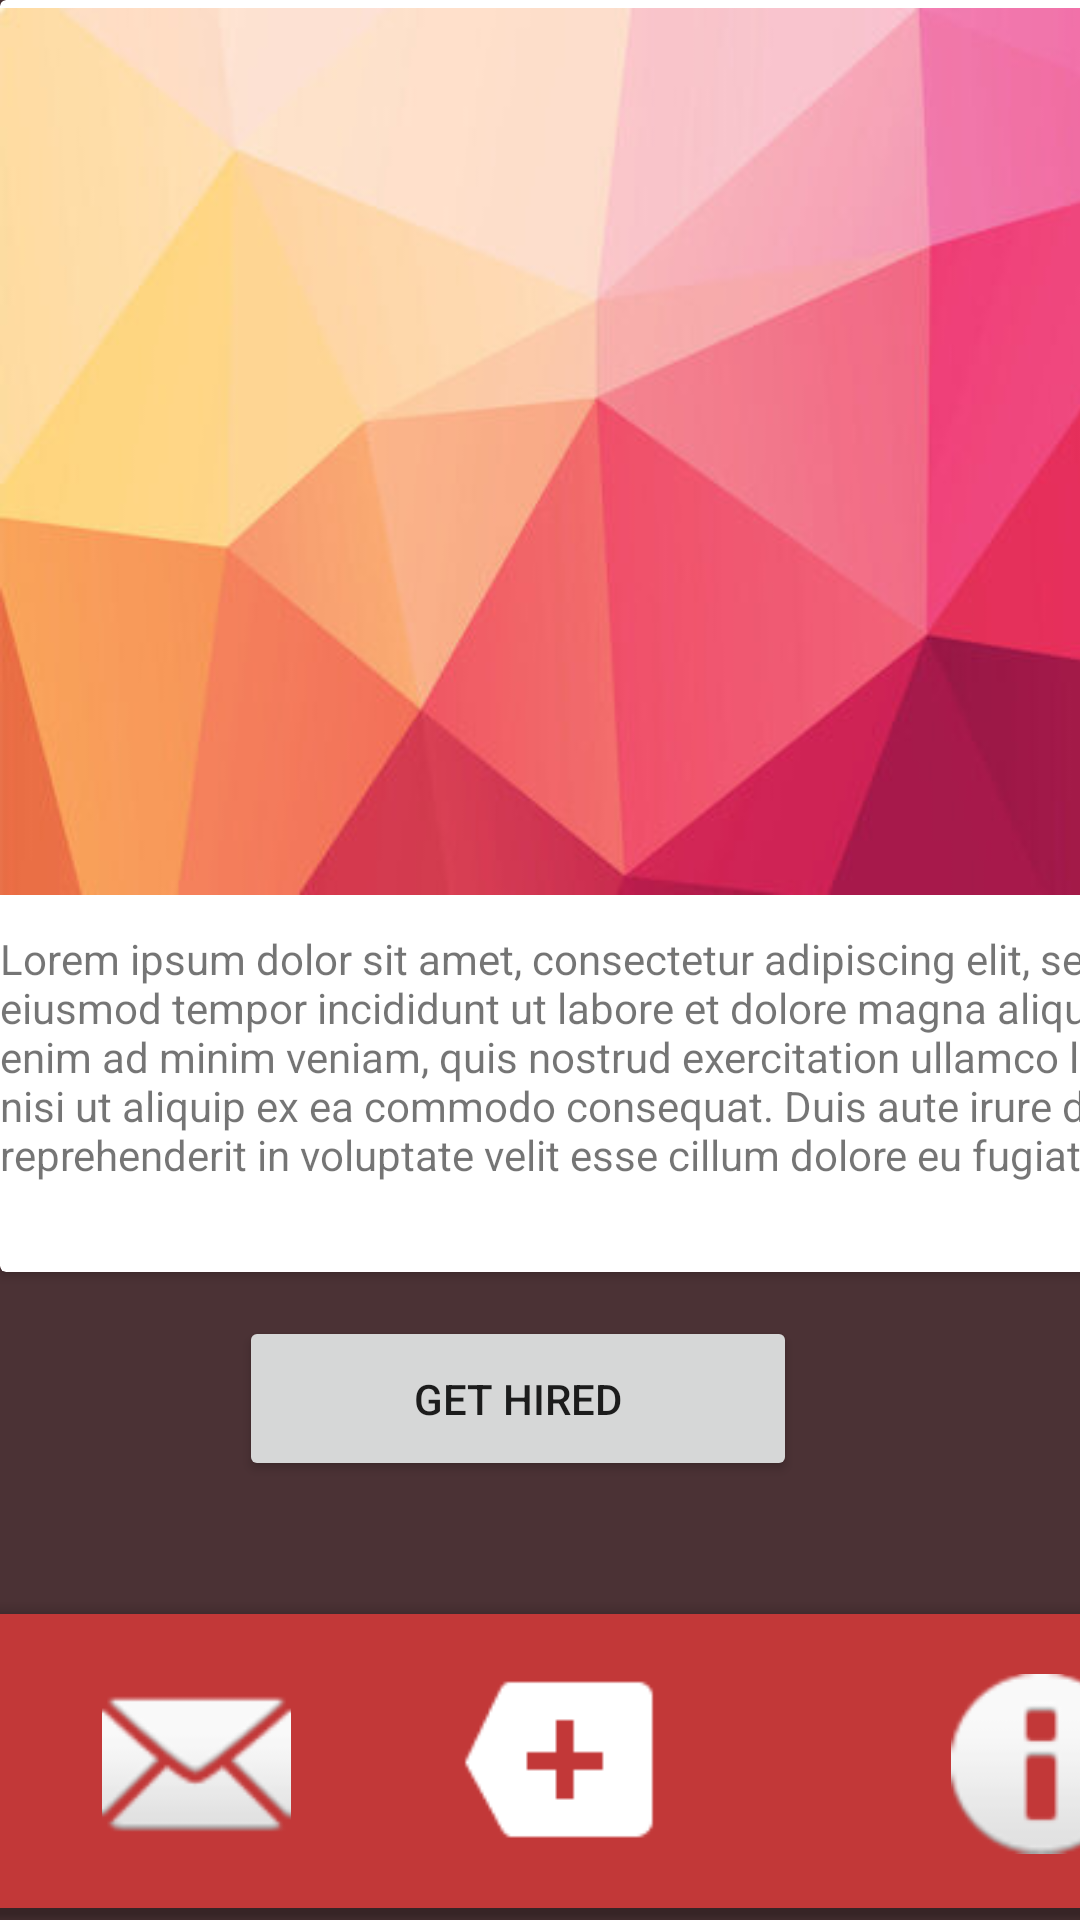

Named icons in this screenshot (1080px×1920px) and their centers, [x,y]:
email: [196,1764]
